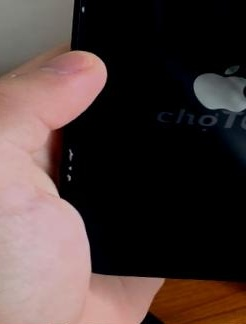physical_damage: (51, 136, 100, 189), (67, 0, 104, 23)
